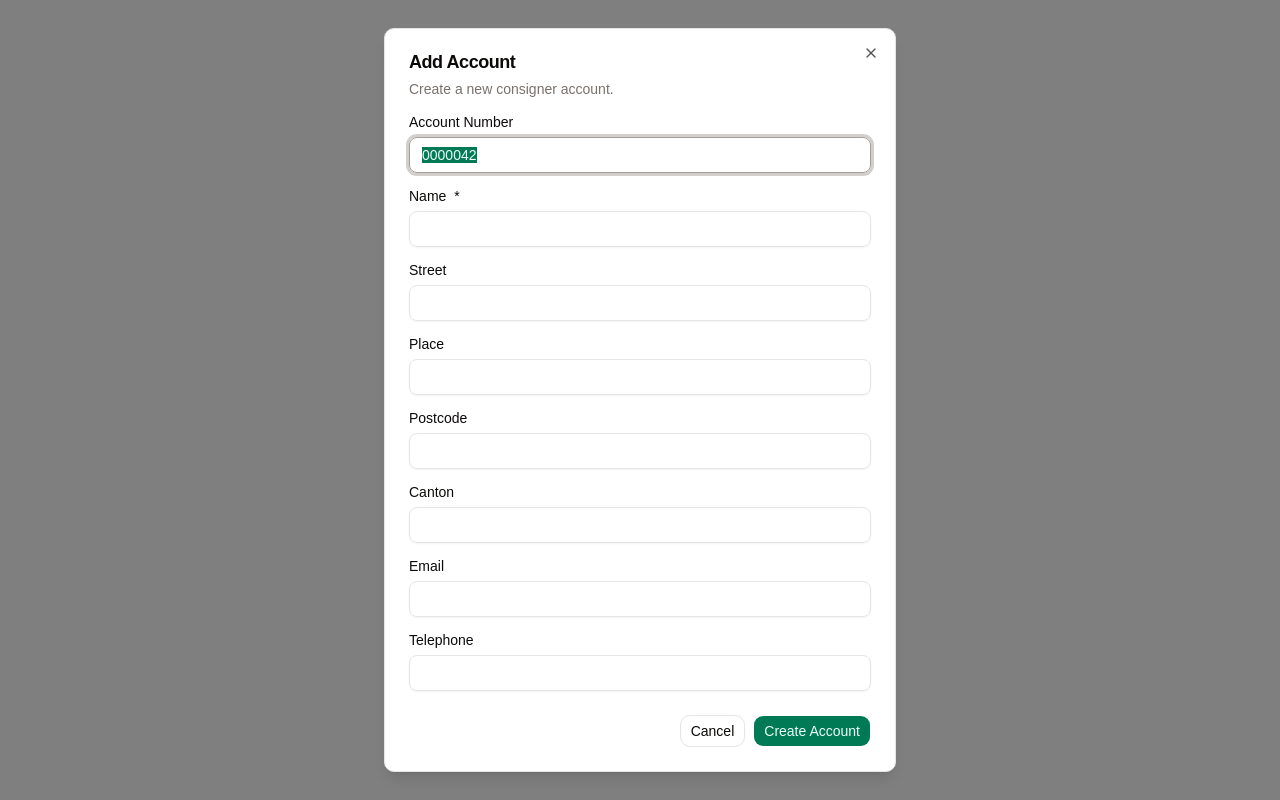
Test: AccountForm › error message display › shows 'Connection failed. Check your internet connection.' on network error
The image size is (1280, 800).
Type "Test Account" into the field labelled "Name *".
click(640, 229); type("Test Account")  # box x1=409 y1=211 x2=871 y2=247
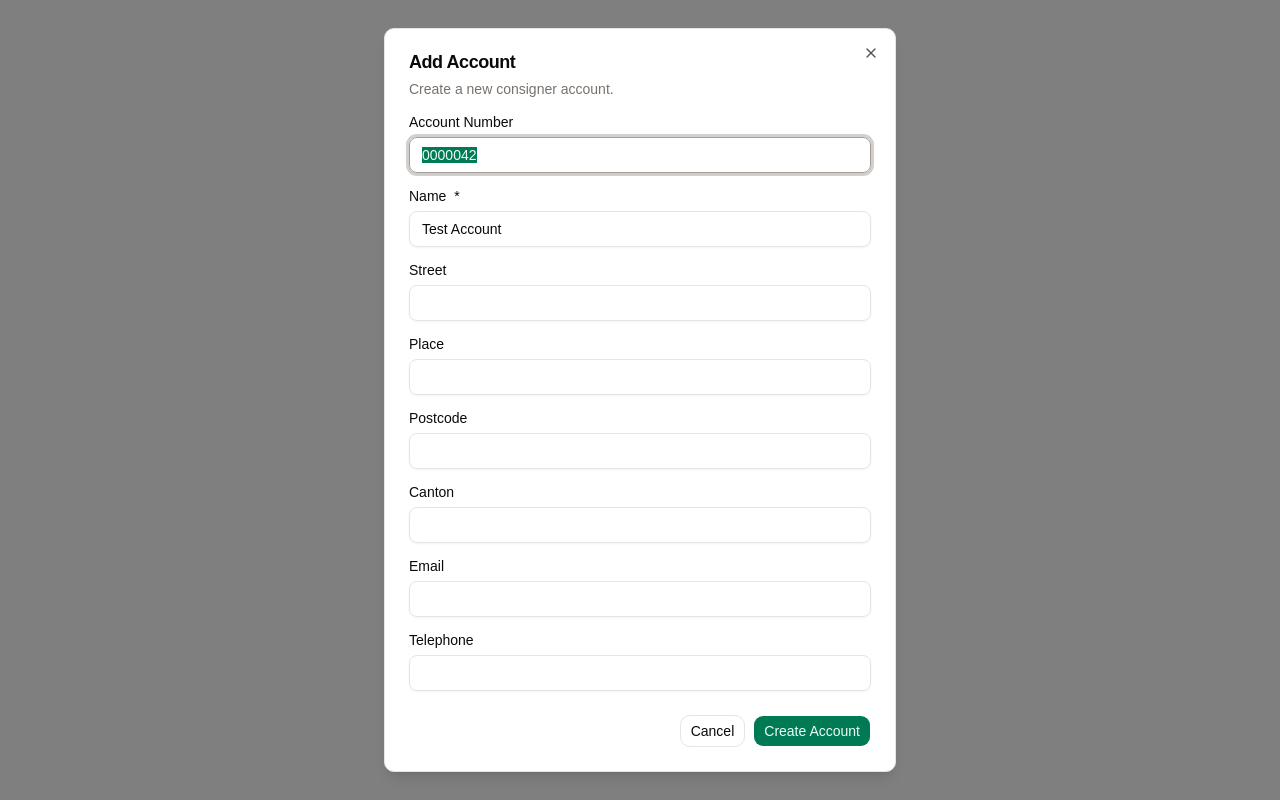
Submit the form, box x1=409 y1=115 x2=871 y2=747
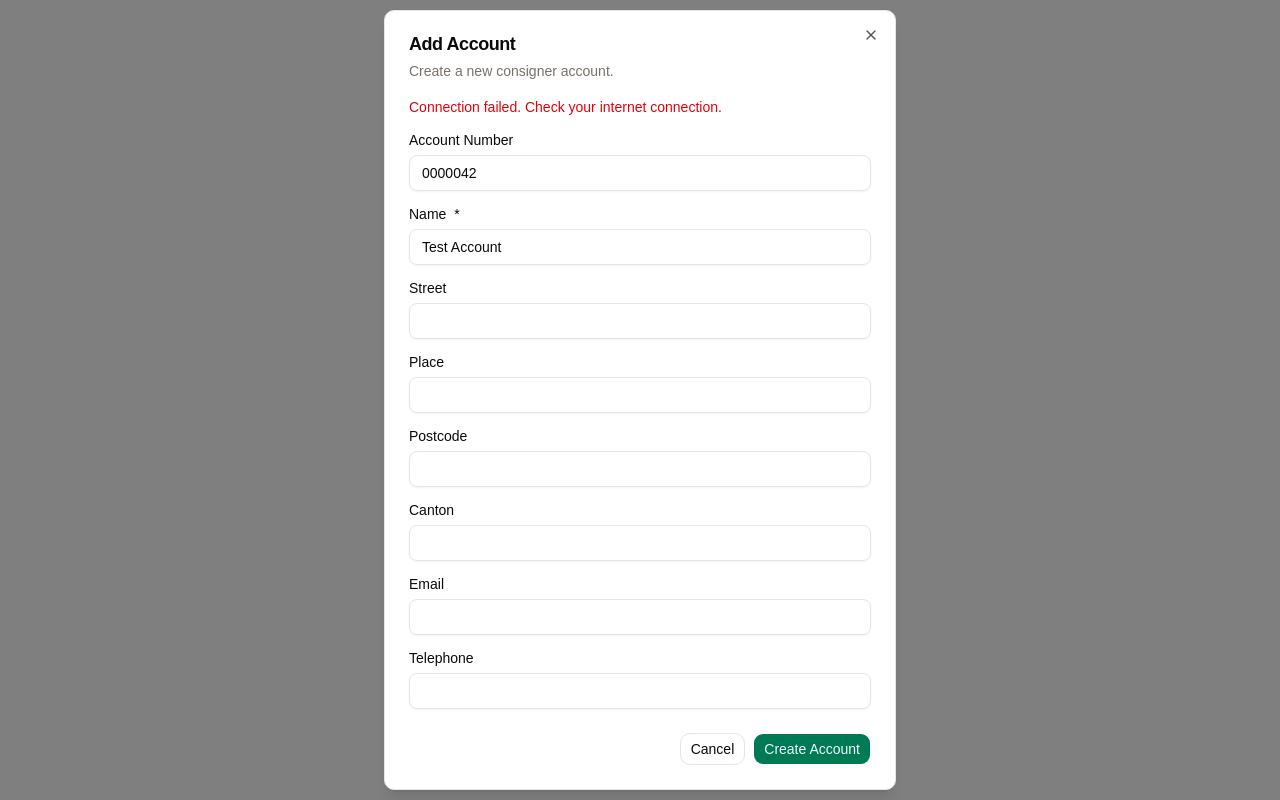
Now the text "Connection failed. Check your internet connection." is shown, box x1=409 y1=99 x2=722 y2=115
